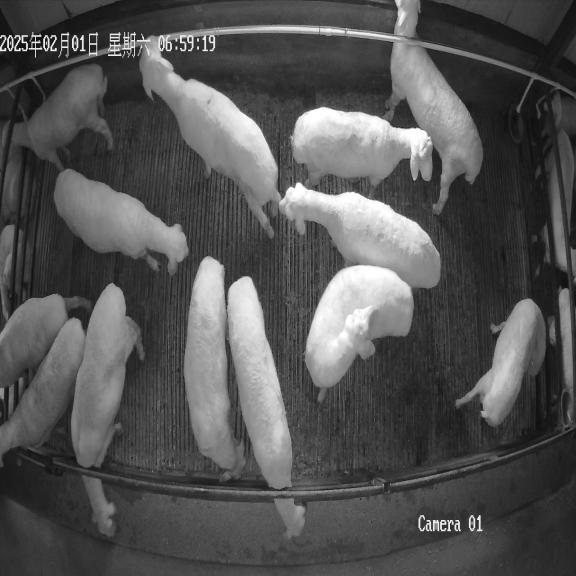eating: (227, 276, 305, 539), (71, 284, 144, 537)
stand: (140, 36, 281, 238), (382, 0, 483, 215), (279, 183, 441, 288), (305, 266, 414, 402), (54, 169, 188, 275), (184, 256, 245, 479), (291, 107, 432, 197), (0, 318, 85, 466), (0, 64, 113, 171), (456, 299, 546, 427), (0, 294, 89, 387)
